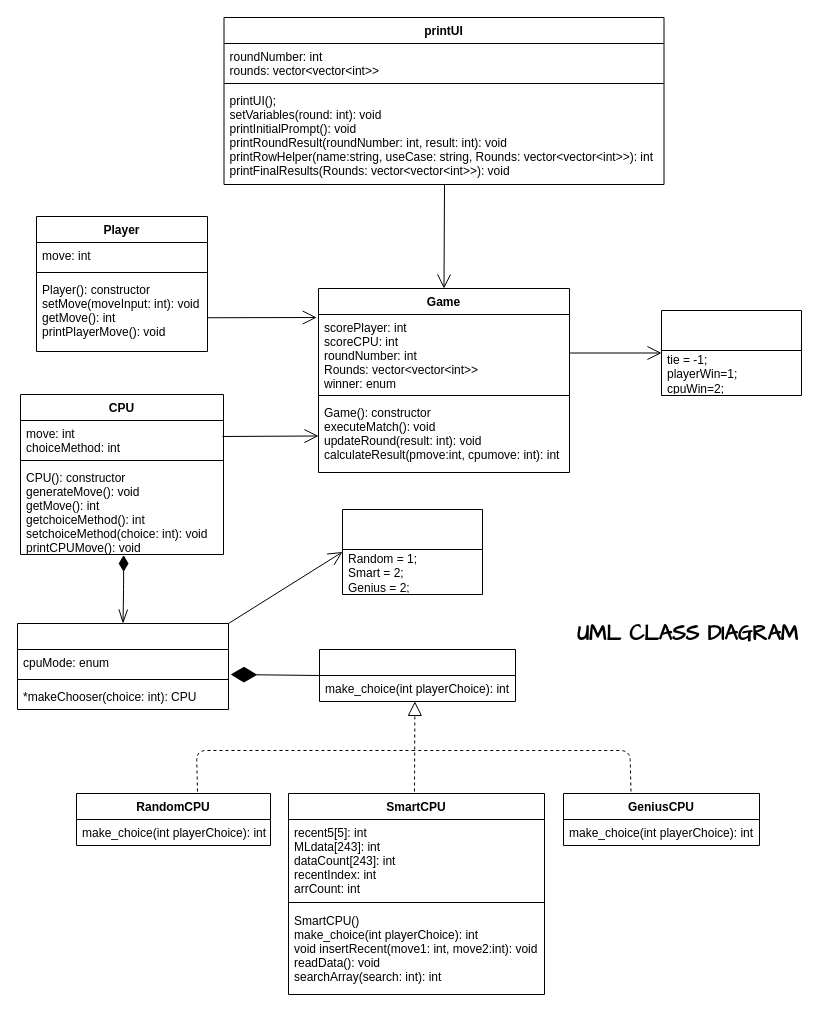
Some shapes in this 828 by 1015 pixel diagram are drawn without their labels. The box of each missing label's shape, as (x1, y1, x2, y2) in pixels:
<<enumeration>> cpuMode: (342, 508, 482, 594)
<<enumeration>> Winner: (660, 310, 802, 396)
Chooser: (318, 648, 516, 702)
ChooserFactory: (16, 622, 228, 710)
